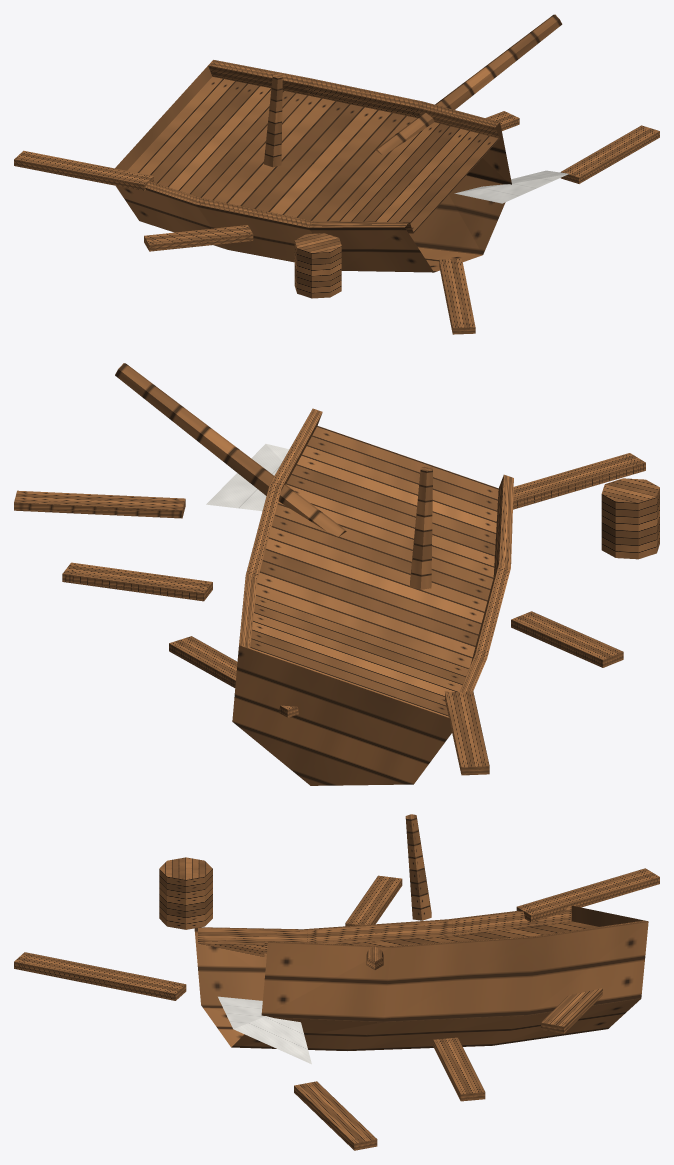
Rendered from wreck.obj.
3 renders of one model, top to bottom at view 1: azimuth 30°, elevation 25°; view 2: azimuth 150°, elevation 25°; view 3: azimuth 270°, elevation 25°, orthographic. The views are drawn at different scales.
Visible parts, largest first — view 1: Hull, Debris, Mast; view 2: Hull, Debris, Mast; view 3: Hull, Debris, Mast.
Boxes of the visible parts, x1=… form: Hull: x1=115, y1=60, x2=511, y2=272; Debris: x1=14, y1=111, x2=659, y2=334; Mast: x1=264, y1=14, x2=569, y2=203; Hull: x1=232, y1=408, x2=513, y2=785; Debris: x1=14, y1=453, x2=659, y2=775; Mast: x1=115, y1=363, x2=432, y2=589; Hull: x1=194, y1=905, x2=648, y2=1050; Debris: x1=14, y1=857, x2=659, y2=1150; Mast: x1=218, y1=814, x2=431, y2=1064.
Size of the model in its own units: 4.14 by 1.55 by 4.1.
2 materials, 2 textured.
